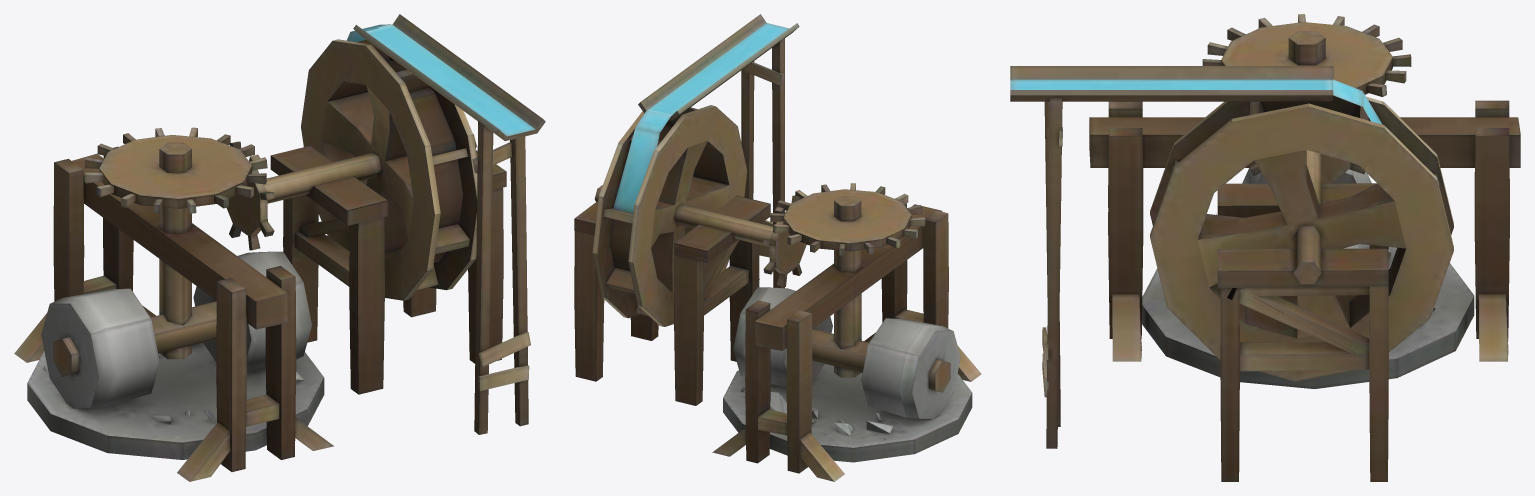
The model's file is stone-crusher.zfix-v14.lod1.glb.
3 renders of one model, left to right at view 1: azimuth 30°, elevation 25°; view 2: azimuth 150°, elevation 25°; view 3: azimuth 270°, elevation 25°, orthographic. The views are drawn at different scales.
Visible parts, largest first — view 1: Object_2; view 2: Object_2; view 3: Object_2.
Part boxes in pixels (left/top/right/bottom): Object_2: left=14, top=14, right=545, bottom=481; Object_2: left=574, top=14, right=981, bottom=481; Object_2: left=1010, top=14, right=1520, bottom=481.
Size of the model in its own units: 9 by 6.54 by 8.34.
Materials: 1 (1 with a texture image).
